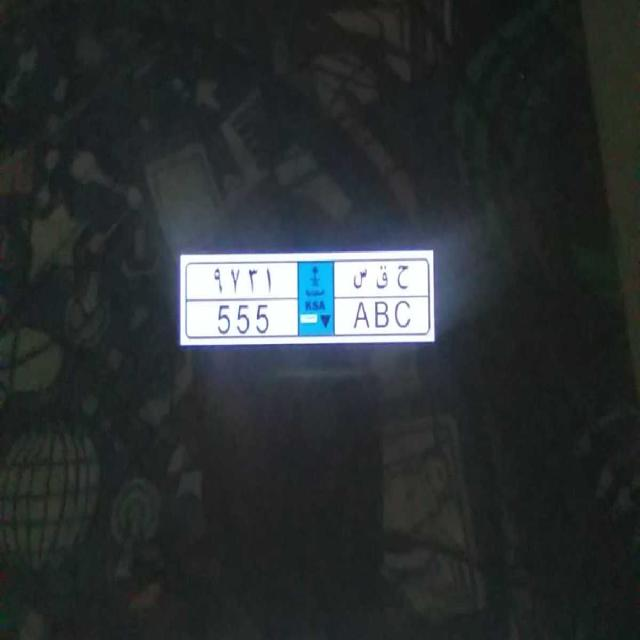license_plate: (195, 296, 424, 344)
